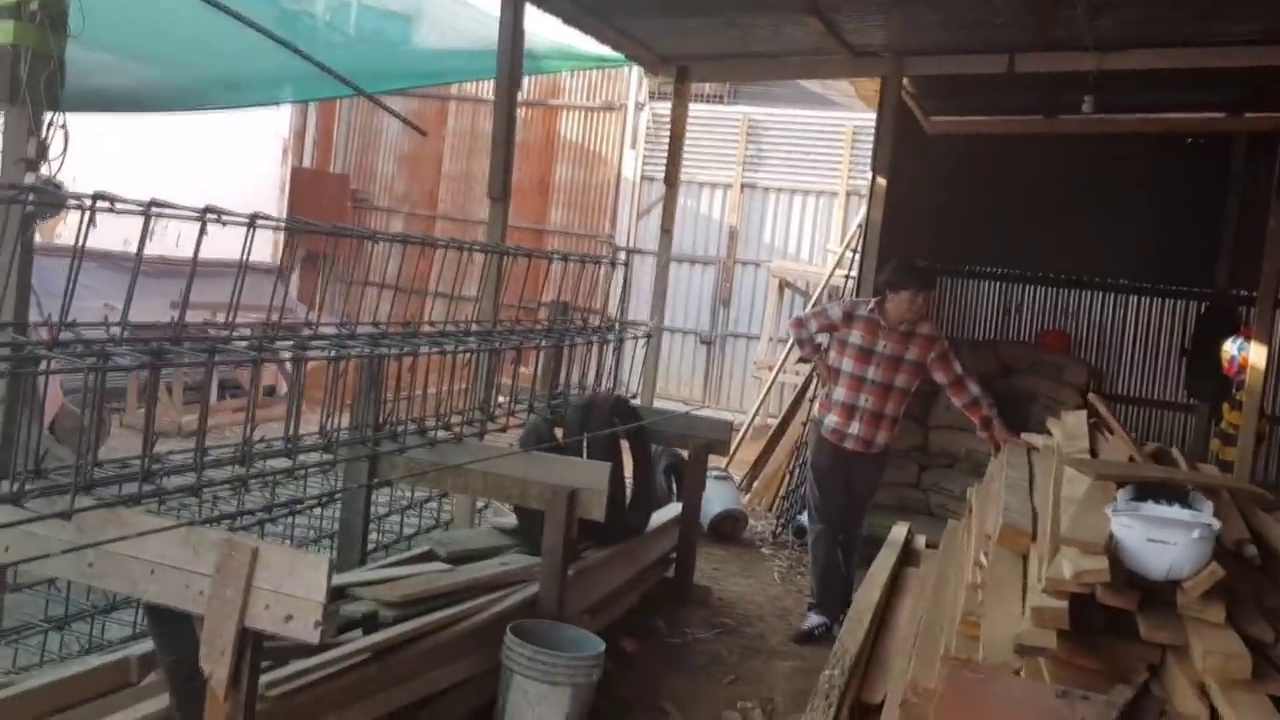helmet: (1098, 497, 1221, 585)
helmet-off: (873, 252, 945, 334)
person: (784, 251, 1012, 658)
